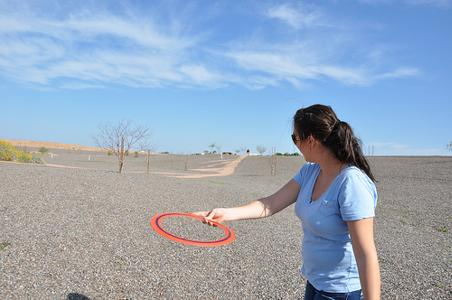person: (191, 103, 383, 300)
